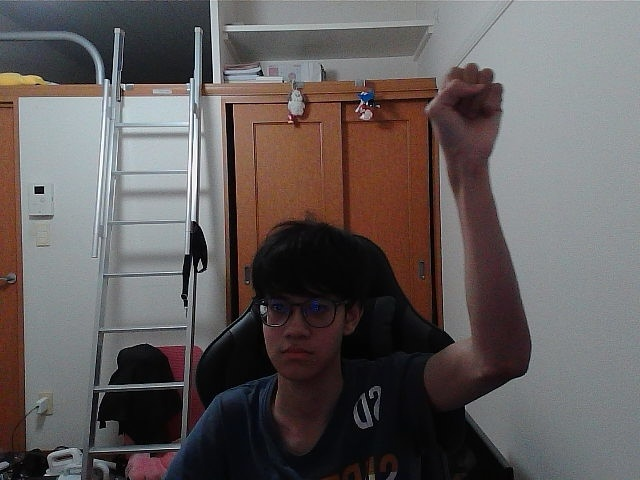closed_palm: (439, 69, 497, 155)
